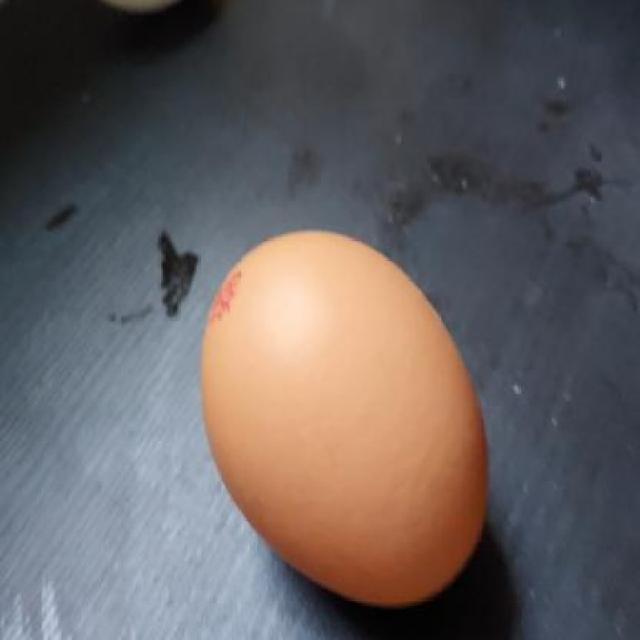biodegradable: (200, 231, 488, 604)
